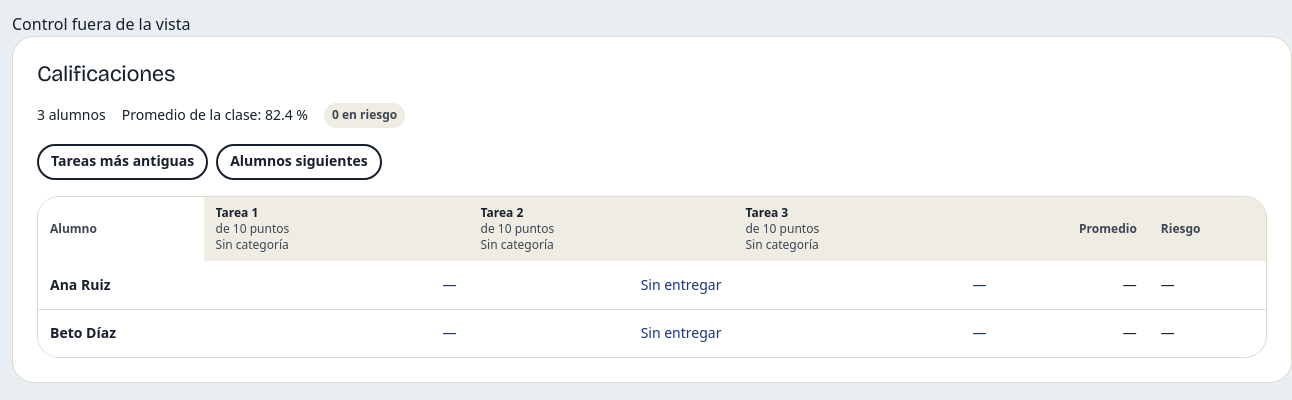
Test: N-48: el gradebook no roba el foco a quien lo movió mientras llegaba la ventana › CAL-T-148: red — si tabuló a «Alumnos siguientes» y la ventana falla con un 5xx, el MensajeError reemplaza la tabla y el foco va a la raíz, nunca a <body>
The image size is (1292, 400).
Click the button "Tareas más antiguas". click: point(123, 162)
box: [37,144,208,180]
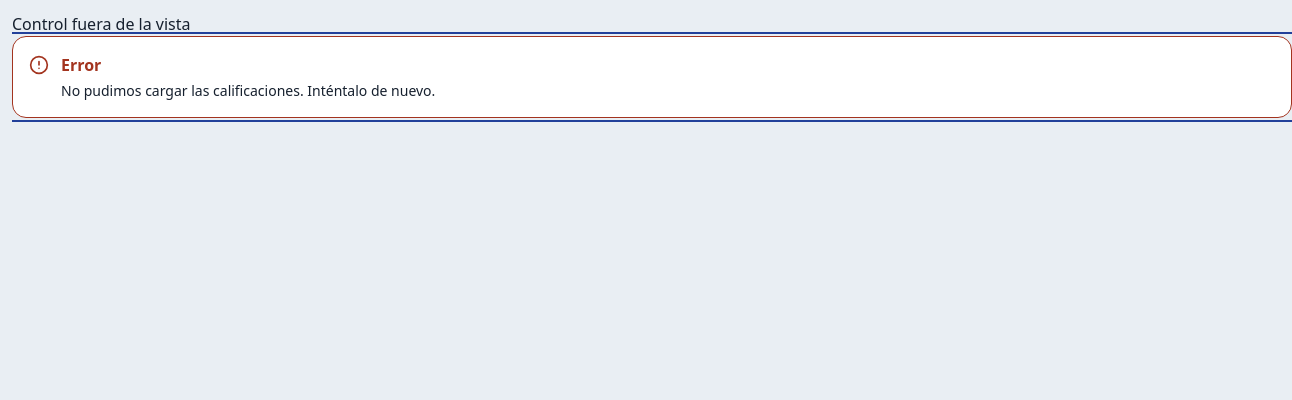
expect the text "No pudimos cargar las calificaciones. Inténtalo de nuevo." is shown: met, box [61,81,435,101]
expect the number of messages is 1: met, box [12,36,1291,118]
